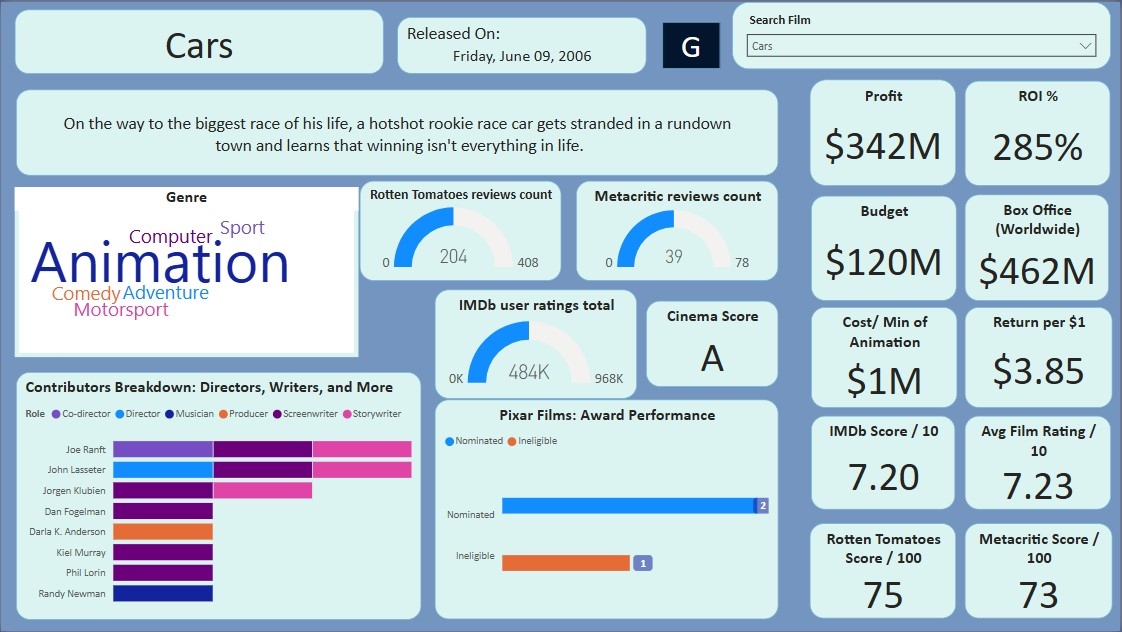

Layout of this report page (visuals, bound fields, positions):
{"tool":"powerbi","page":{"name":"Film Impact Distribution","canvas":[1280,720],"ordinal":2},"visuals":[{"type":"slicer","fields":{"Values":["pixar_films.film"]},"box":[835.7,0,432.9,77.1],"z":0},{"type":"card","fields":{"Values":["pixar_films.film"]},"box":[16.2,8.8,421.2,73.8],"z":1000},{"type":"card","title":"Plot","fields":{"Values":["pixar_films.plot"]},"box":[17.1,100,871.4,98.6],"z":2000},{"type":"card","fields":{"Values":["pixar_films.film_rating"]},"box":[756.2,22.5,66.2,53.8],"z":3000},{"type":"clusteredBarChart","title":"Pixar Films: Award Performance","fields":{"Category":["academy.status"],"Y":["academy.award_type"],"Series":["academy.status"]},"box":[495.7,454.3,392.9,251.4],"z":4000},{"type":"card","title":"IMDb Score / 10","fields":{"Values":["public_response.imdb_score"]},"box":[926.2,472.5,165,107.5],"z":5000},{"type":"card","title":"Metacritic Score / 100","fields":{"Values":["public_response.metacritic_score"]},"box":[1101.2,596.2,168.8,108.8],"z":6000},{"type":"card","title":"Rotten Tomatoes Score / 100","fields":{"Values":["public_response.rotten_tomatoes_score"]},"box":[923.8,596.2,167.5,108.8],"z":7000},{"type":"card","title":"Cinema Score","fields":{"Values":["public_response.cinema_score"]},"box":[737.5,341.2,151.2,98.8],"z":8000},{"type":"card","title":"Box Office (Worldwide)","fields":{"Values":["box_office.box_office_worldwide"]},"box":[1101.2,220,165,121.2],"z":9000},{"type":"card","title":"Profit","fields":{"Values":["box_office.Profit"]},"box":[923.8,88.8,167.5,121.2],"z":10000},{"type":"card","title":"Budget","fields":{"Values":["box_office.TotalBudget"]},"box":[925,221.2,166.2,120],"z":11000},{"type":"WordCloud1447959067750","title":"Genre","fields":{"Category":["genres.value"]},"box":[16.2,211.8,392.6,194.1],"z":12000},{"type":"card","title":"ROI %","fields":{"Values":["box_office.ROI_Percentage"]},"box":[1101.2,90,166.2,120],"z":13000},{"type":"barChart","title":"Contributors Breakdown: Directors, Writers, and More","fields":{"Category":["pixar_people.name"],"Series":["pixar_people.role_type"],"Y":["pixar_people.role_type"]},"box":[17.1,422.9,462.9,282.9],"z":14000},{"type":"card","title":"Cost/ Min of Animation","fields":{"Values":["box_office.CostPerMinute"]},"box":[926.2,348.8,167.5,115],"z":15000},{"type":"card","title":"Avg Film Rating / 10","fields":{"Values":["public_response.Average Film Rating"]},"box":[1101.2,472.5,167.5,107.5],"z":16000},{"type":"card","title":"Return per $1","fields":{"Values":["box_office.ReturnPerDollar"]},"box":[1101.2,348.8,168.8,115],"z":17000},{"type":"gauge","title":"IMDb user ratings total","fields":{"Y":["public_response.imdb_counts"]},"box":[496.2,328.8,231.2,125],"z":18000},{"type":"gauge","title":"Metacritic reviews count","fields":{"Y":["public_response.metacritic_counts"]},"box":[657.1,204.3,231.4,114.3],"z":19000},{"type":"gauge","title":"Rotten Tomatoes reviews count","fields":{"Y":["public_response.rotten_tomatoes_counts"]},"box":[410,204.3,230,114.3],"z":20000},{"type":"card","title":"Released On:","fields":{"Values":["pixar_films.release_date"]},"box":[452.5,17.5,285,65],"z":21000},{"type":"actionButton","box":[0,679.1,54.5,41.2],"z":21001}]}

Visuals, with their boxes in screenshot pixels (x1, y1, x2, y2), scaled from the page's 1280x720 canvas onto the 1122x632 screenshot:
slicer - pixar_films.film: (733, 0, 1112, 68)
card - pixar_films.film: (14, 8, 383, 73)
"Plot" card: (15, 88, 779, 174)
card - pixar_films.film_rating: (663, 20, 721, 67)
"Pixar Films: Award Performance" clusteredBarChart: (435, 399, 779, 619)
"IMDb Score / 10" card: (812, 415, 957, 509)
"Metacritic Score / 100" card: (965, 523, 1113, 619)
"Rotten Tomatoes Score / 100" card: (810, 523, 957, 619)
"Cinema Score" card: (646, 299, 779, 386)
"Box Office (Worldwide)" card: (965, 193, 1110, 299)
"Profit" card: (810, 78, 957, 184)
"Budget" card: (811, 194, 957, 299)
"Genre" WordCloud1447959067750: (14, 186, 358, 356)
"ROI %" card: (965, 79, 1111, 184)
"Contributors Breakdown: Directors, Writers, and More" barChart: (15, 371, 421, 620)
"Cost/ Min of Animation" card: (812, 306, 959, 407)
"Avg Film Rating / 10" card: (965, 415, 1112, 509)
"Return per $1" card: (965, 306, 1113, 407)
"IMDb user ratings total" gauge: (435, 289, 638, 398)
"Metacritic reviews count" gauge: (576, 179, 779, 280)
"Rotten Tomatoes reviews count" gauge: (359, 179, 561, 280)
"Released On:" card: (397, 15, 646, 72)
actionButton: (0, 596, 48, 631)
